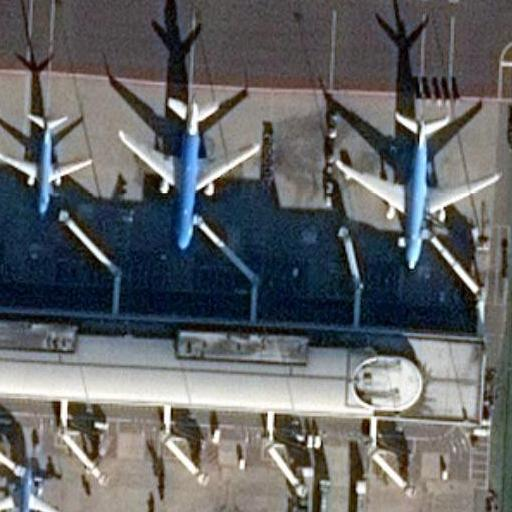Aircraft: (330, 104, 501, 268), (115, 89, 259, 247), (0, 106, 94, 216), (0, 458, 67, 512)
